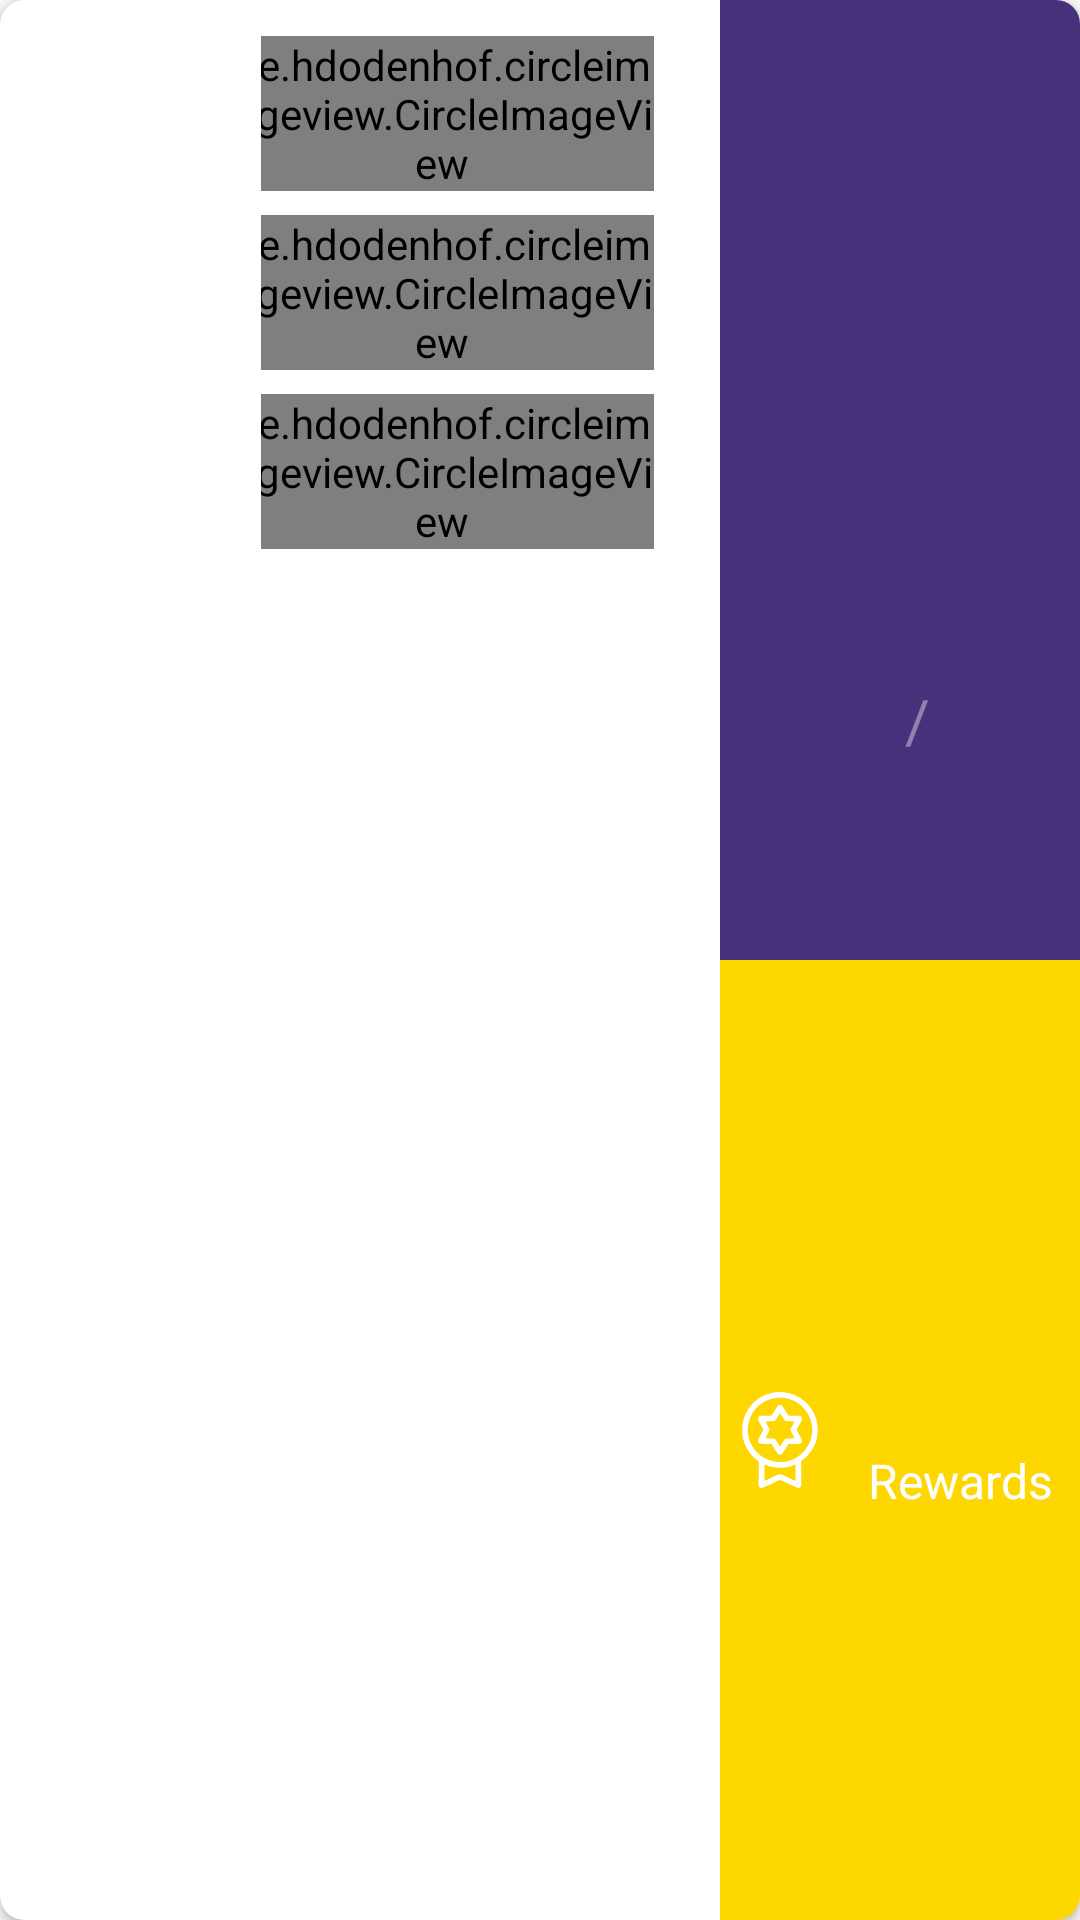

Icon bounding boxes for this 1080w x 1920h phone screenshot, format box(x1, y1, x2, y2):
badge: box(742, 1392, 818, 1488)
